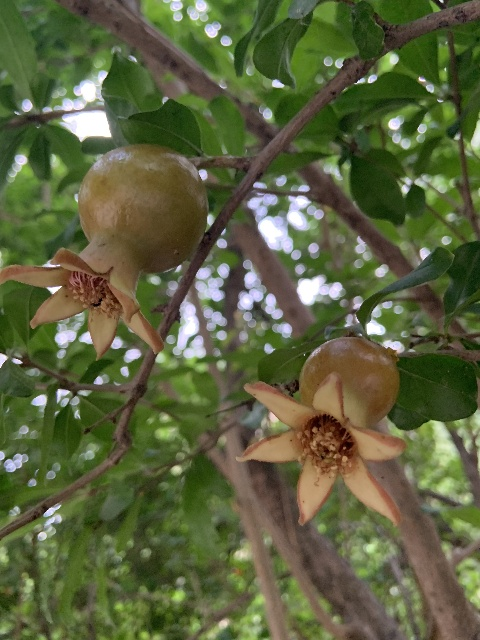early-fruit: (0, 144, 207, 362), (236, 336, 408, 528)
